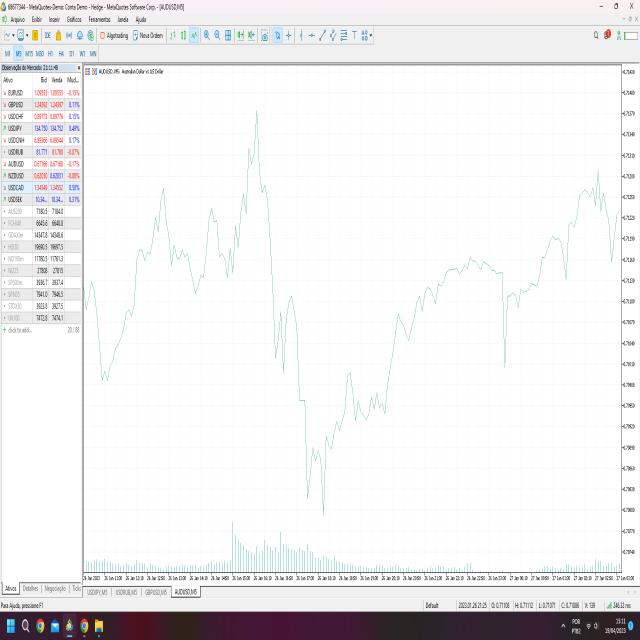bandeira_baixa: (252, 99, 292, 374)
fundo_duplo: (299, 413, 335, 532)
oco: (127, 153, 197, 312)
